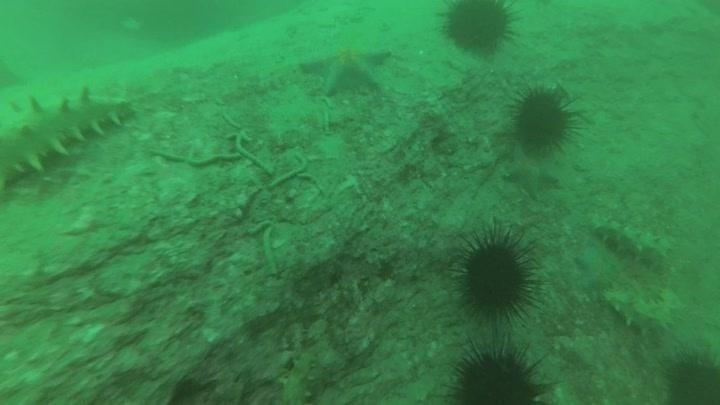echinus: (451, 225, 542, 328), (444, 338, 556, 403), (508, 83, 582, 156), (437, 1, 520, 57), (660, 344, 719, 405)
holothurian: (1, 85, 135, 191), (600, 284, 684, 338), (589, 216, 676, 266), (277, 341, 324, 405)
starfish: (297, 40, 394, 99), (500, 142, 561, 200)
